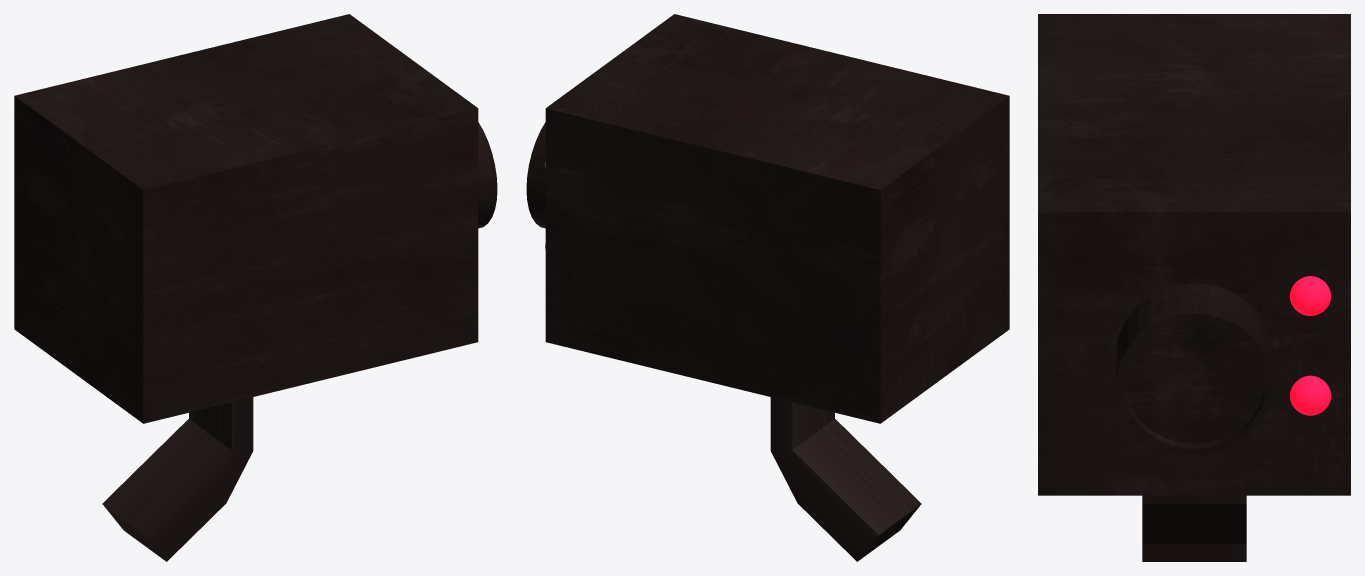
Rendered from kameraR.fbx.
3 views of the same model, side by side, from view 1: azimuth 30°, elevation 25°; view 2: azimuth 150°, elevation 25°; view 3: azimuth 270°, elevation 25° (orthographic). The views are drawn at different scales.
Visible parts, largest first — view 1: KameraR; view 2: KameraR; view 3: KameraR.
Boxes of the visible parts, x1,y1,x2,y2 form: KameraR: [14, 14, 497, 561]; KameraR: [526, 14, 1009, 561]; KameraR: [1038, 14, 1350, 561].
Bounding box in the file's own units: 13.84 × 14.36 × 8.
